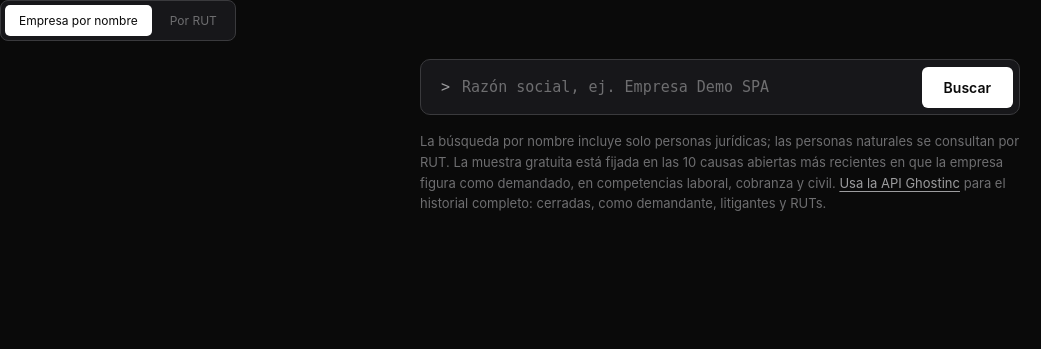
Scenario: SearchForm › sugiere razones sociales con RUT y permite seleccionar una
Type "Empresa Demo" into the search field. click: (686, 87)
box: x1=462 y1=66 x2=910 y2=108
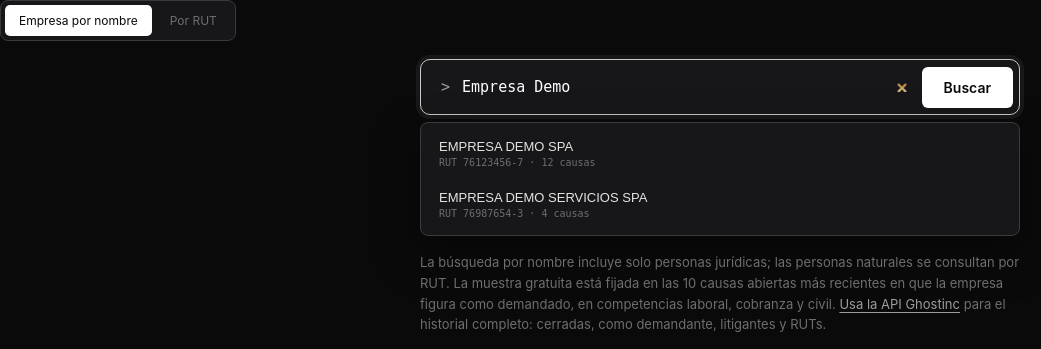
Click the option "EMPRESA DEMO SPA RUT 76123456-7 · 12 causas". click: (506, 146)
box: x1=426 y1=128 x2=1014 y2=179
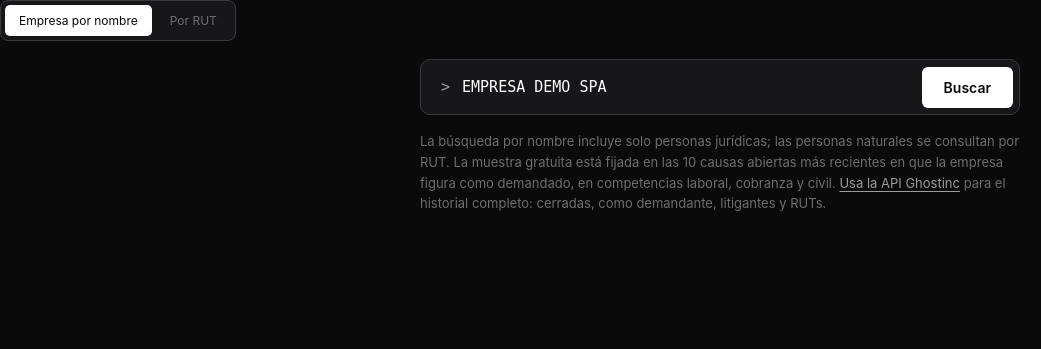
Now the search field holds "EMPRESA DEMO SPA", box x1=462 y1=66 x2=910 y2=108
Now the list is gone
